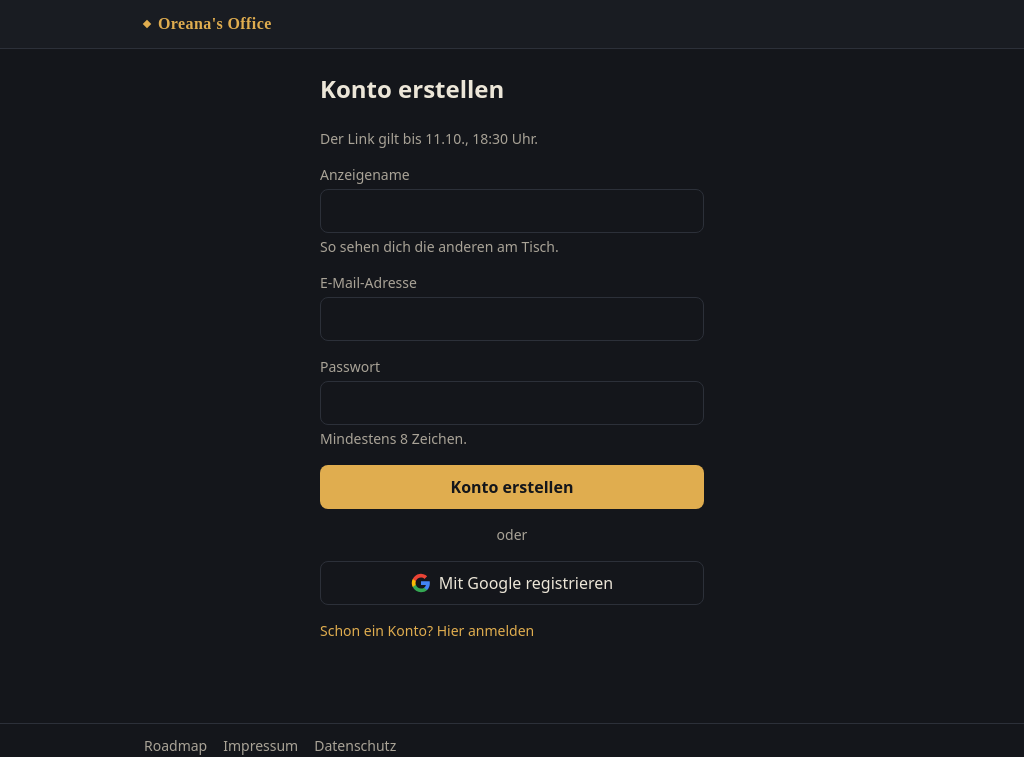
Test: InvitePage › checks the password length before asking the server
The width and height of the screenshot is (1024, 757).
Step 1. Type "Mira" into the field labelled "Anzeigename" → (512, 211), box [320,189,704,233]
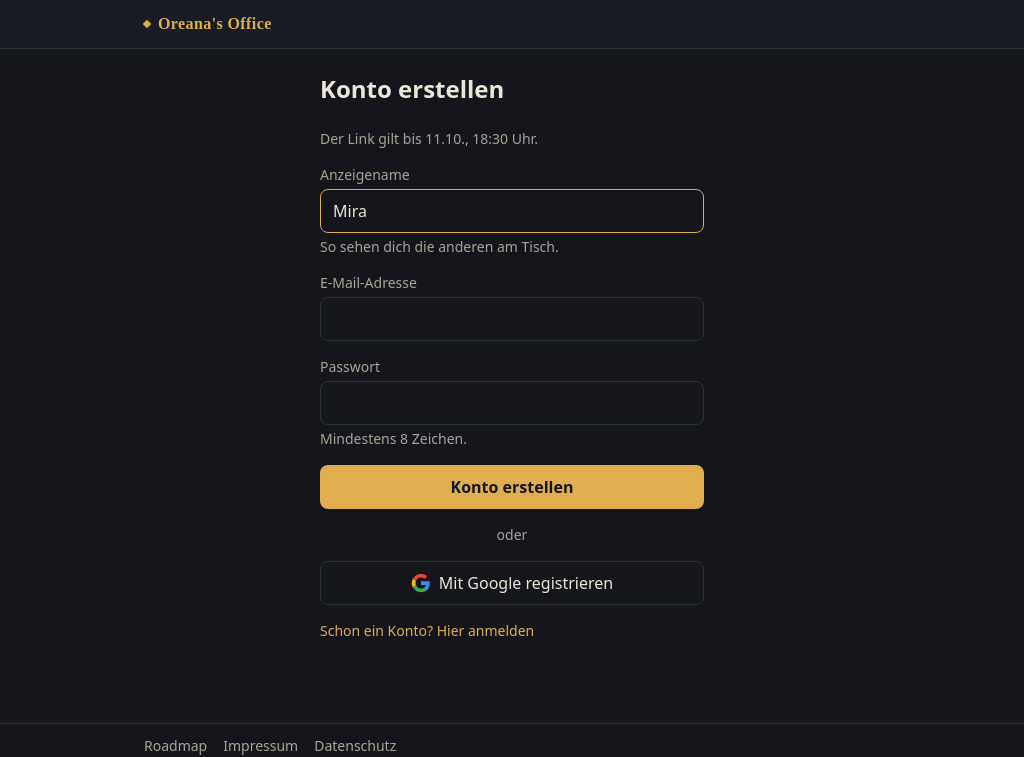
Step 2. Type "mira@example.org" into the field labelled "E-Mail-Adresse" → (512, 319), box [320,297,704,341]
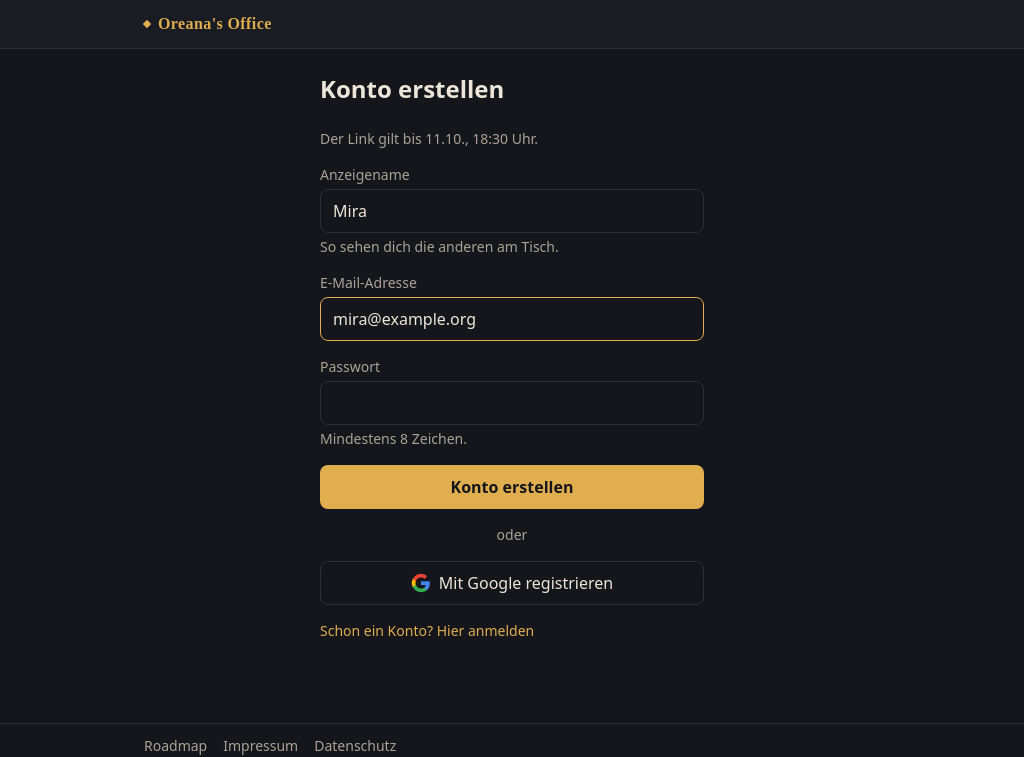
Step 3. Type "kurz" into the password field labelled "Passwort" → (512, 403), box [320,381,704,425]
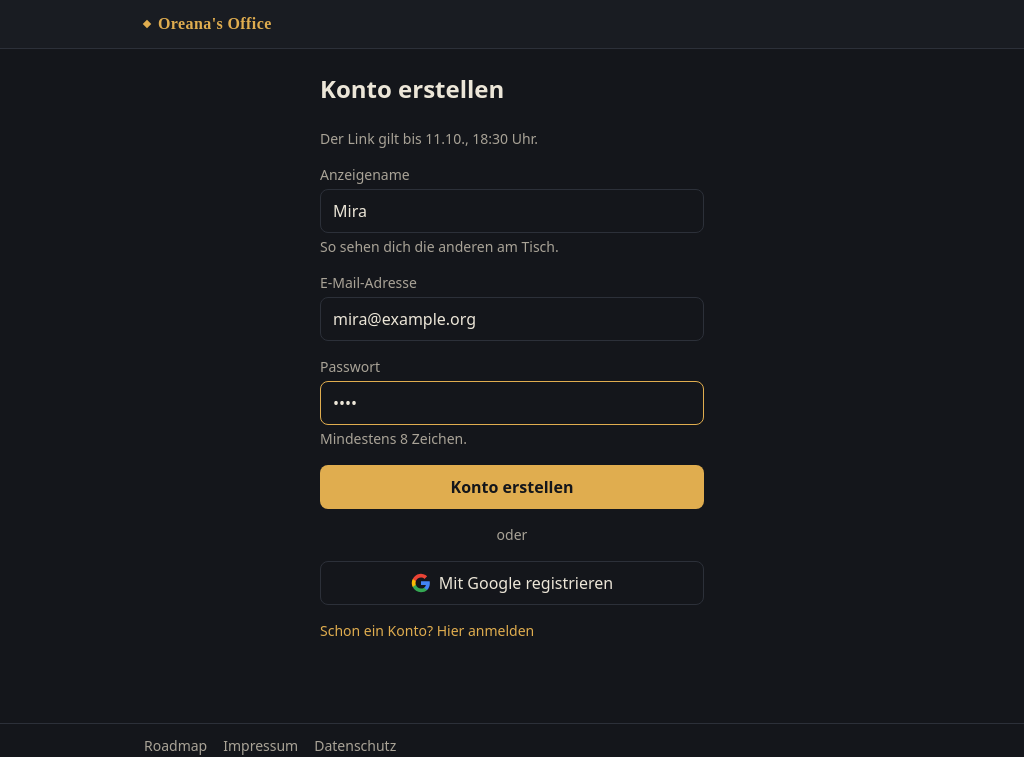
Step 4. Click the button "Konto erstellen" → (512, 487), box [320,465,704,509]
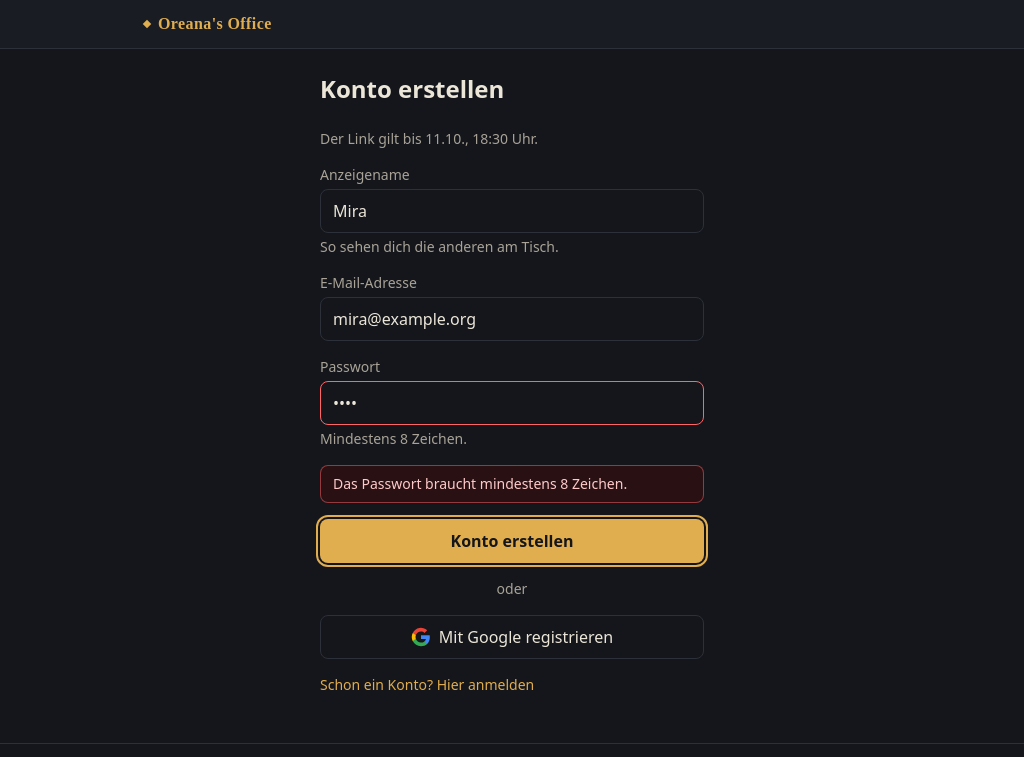
Now the message reads "Das Passwort braucht mindestens 8 Zeichen.", box [333,474,627,493]
